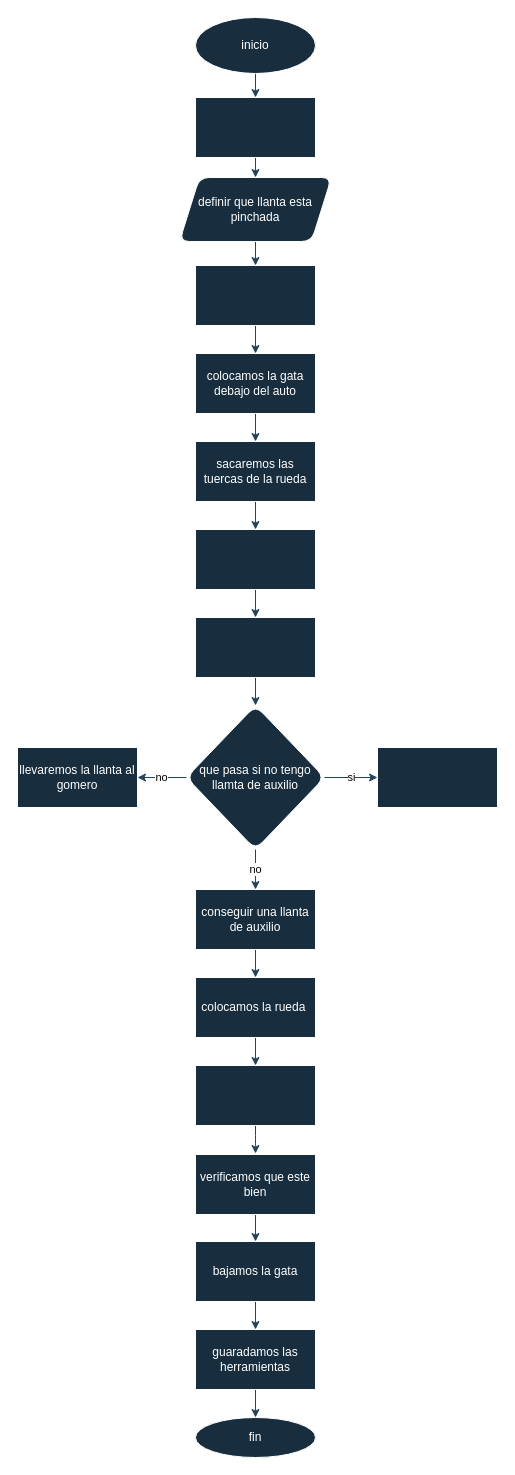
Some shapes in this 515 by 1475 pixel diagram are drawn without their labels. The shapes that lost their labels are listed below. From the top down, each one's box as (x1, y1, x2, y2) in pixels, then its label:
(194, 96, 316, 158): llanta pinchada
(194, 264, 316, 326): procedermos a buscar las herramientas
(194, 528, 316, 590): sacaremos la rueda
(194, 616, 316, 678): pondremos la llanta de auxilio
(376, 746, 498, 808): ponemos la llanta de auxilio
(194, 1064, 316, 1126): colocamos las tuercas
